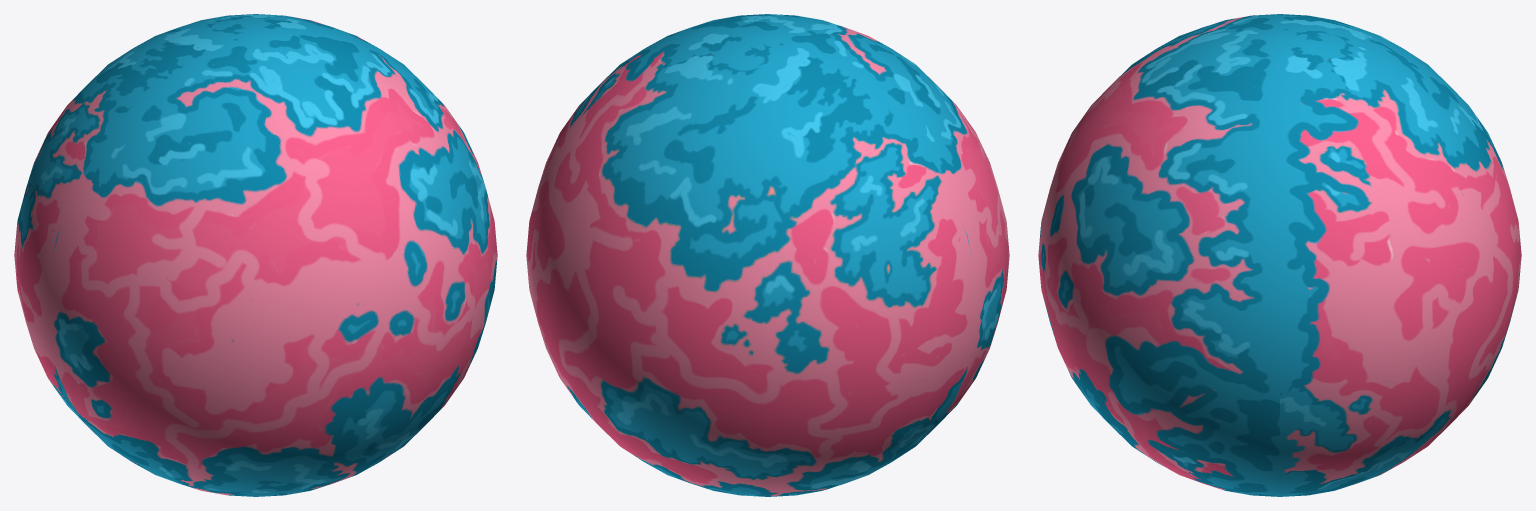
Rendered from Planet_PinkBlue.fbx.
The picture shows the model from 3 angles, left to right: view 1: azimuth 30°, elevation 25°; view 2: azimuth 150°, elevation 25°; view 3: azimuth 270°, elevation 25°; orthographic projection.
Parts seen in each view (by area): view 1: Planet_1; view 2: Planet_1; view 3: Planet_1.
Boxes of the visible parts, x1,y1,x2,y2 form: Planet_1: [14, 14, 497, 496]; Planet_1: [526, 14, 1009, 496]; Planet_1: [1038, 14, 1521, 496].
Size of the model in its own units: 4 by 4 by 4.
1 material, 1 textured.
